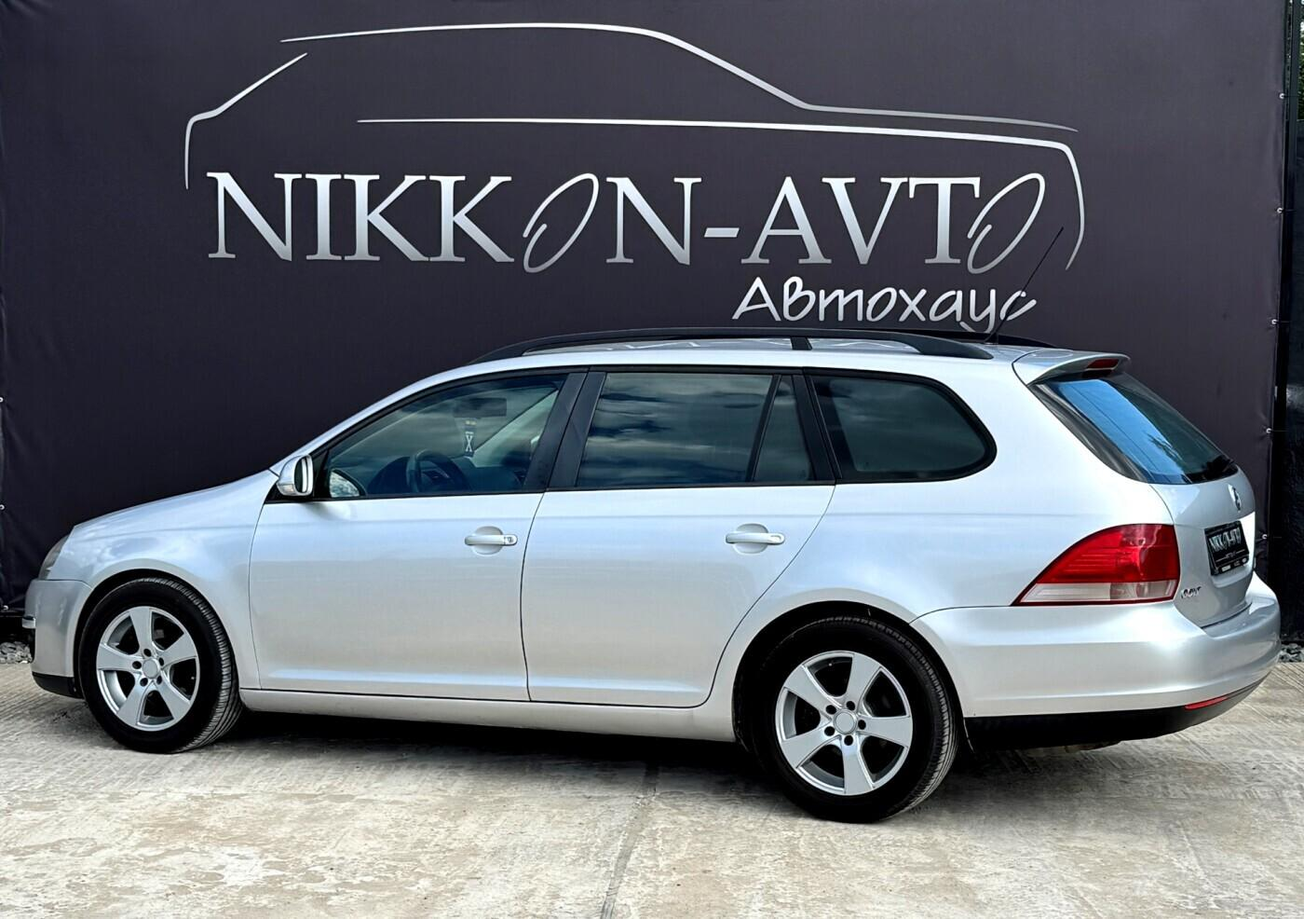Golf_2003-2009: (19, 328, 1282, 826)
